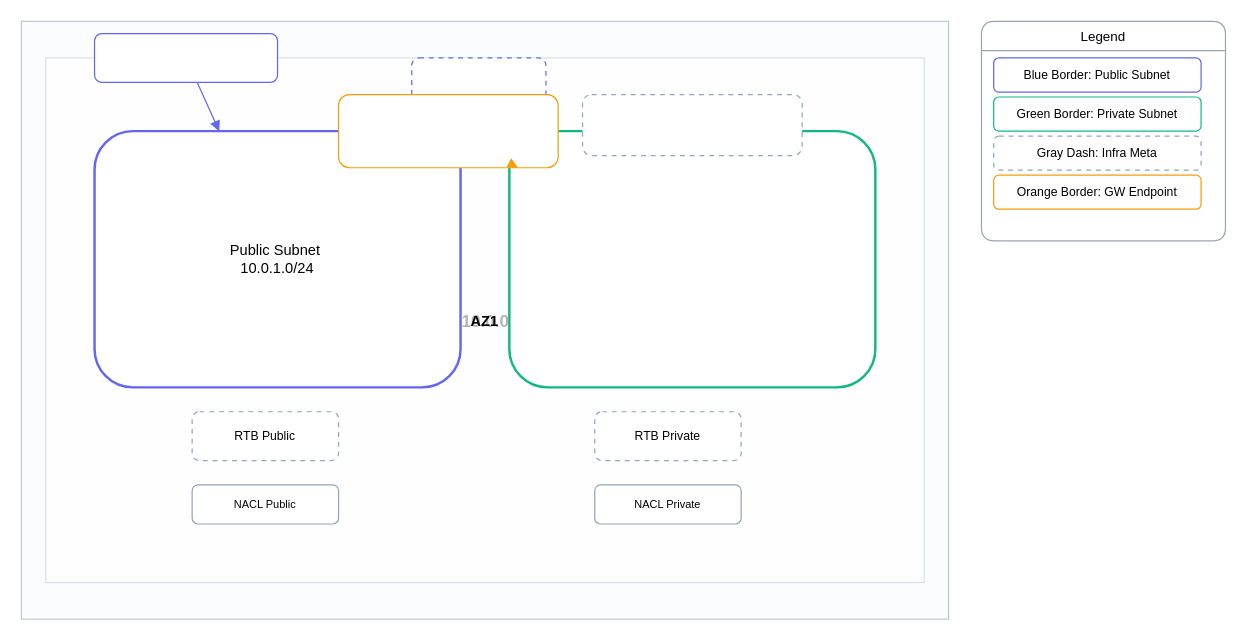
The diagram is 1247 pixels wide and 641 high, and some of its shapes have lost their labels. The centre of each missing label's shape, as x and y in pixels:
GW Endpoint S3 / DynamoDB: (447,130)
Internet Gateway: (185,57)
NAT GW: (478,82)
No NAT data charges for S3/DDB: (691,124)
Private Subnet 10.0.11.0/24: (692,258)
